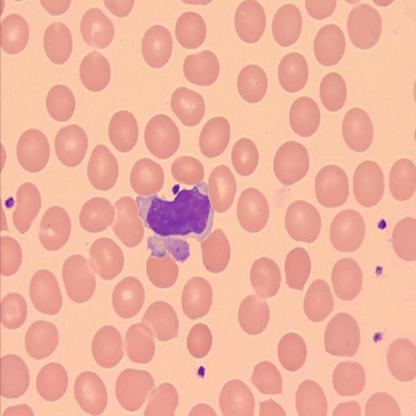Atypical lymphocyte: (138, 185, 216, 259)
